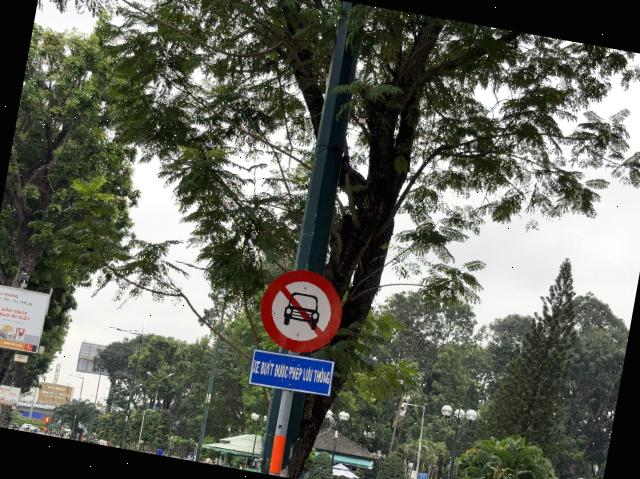cam-o-to: (254, 263, 348, 359)
